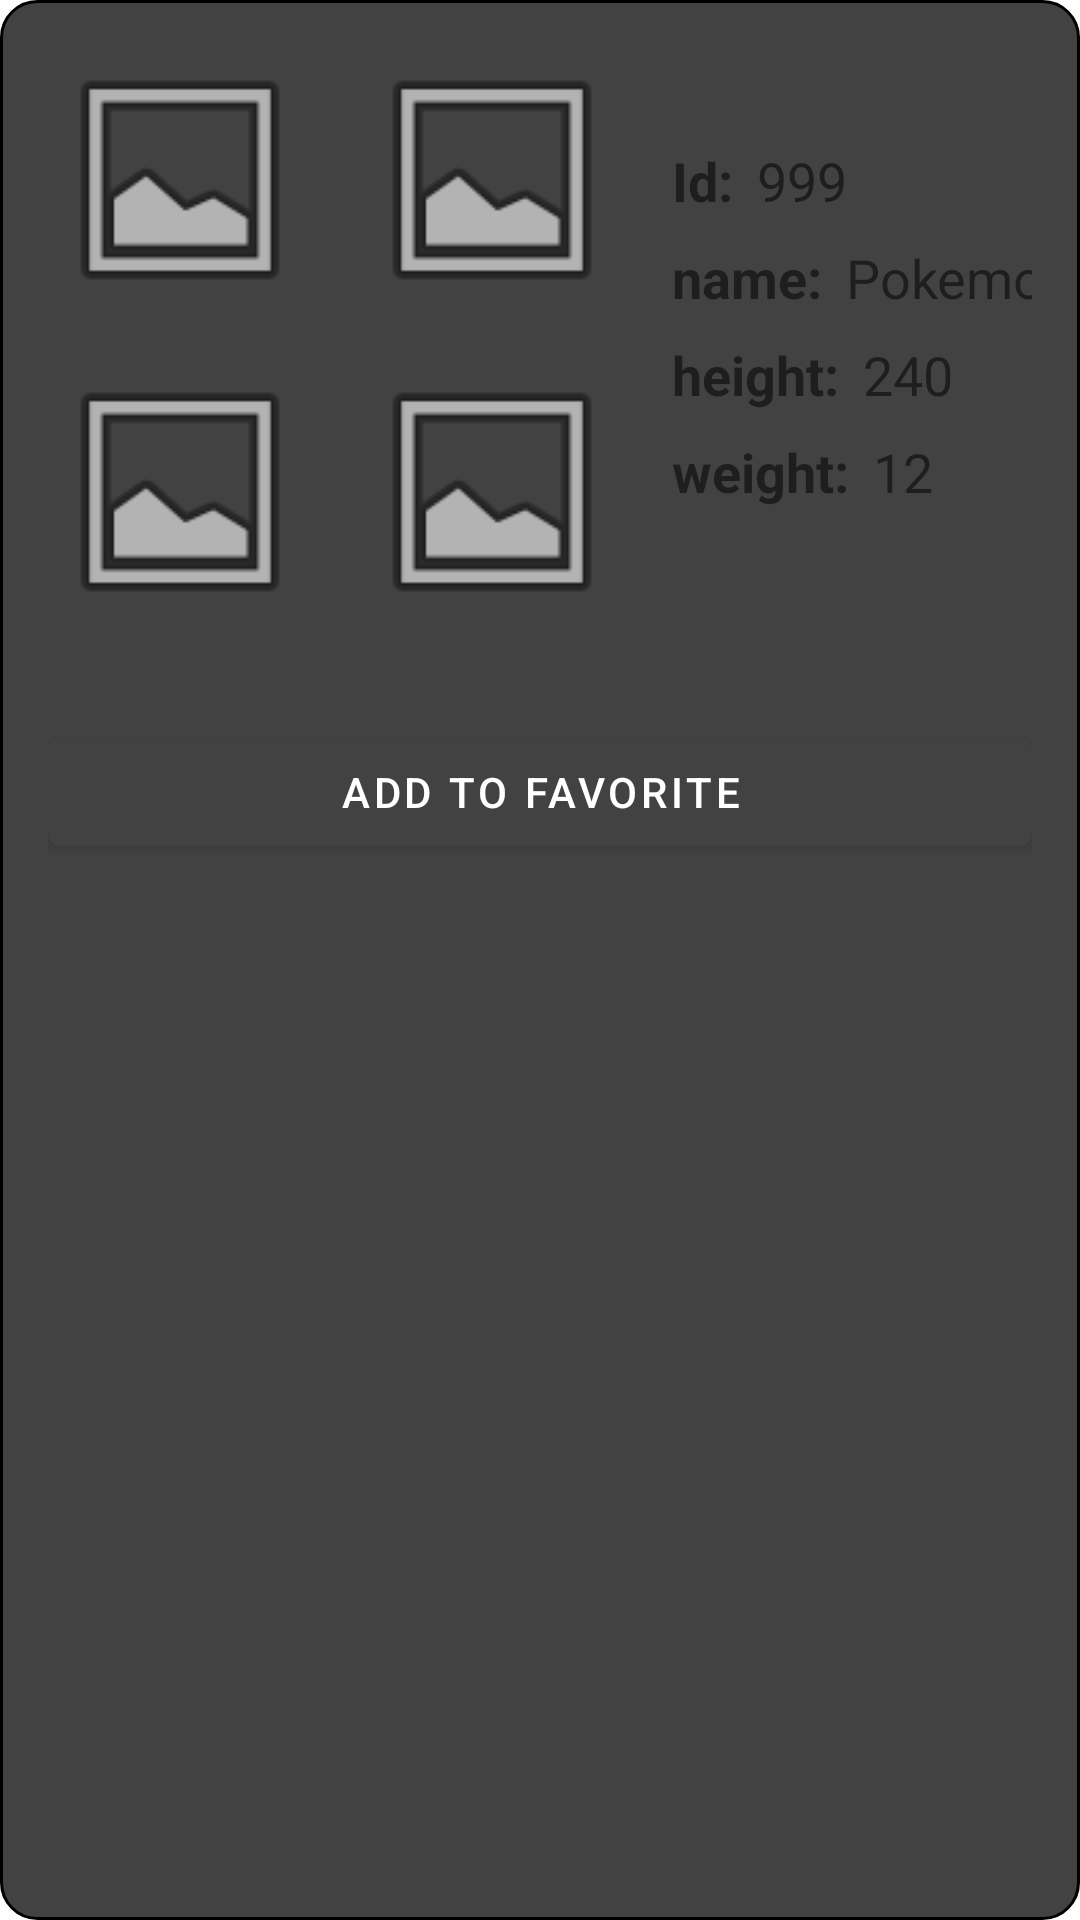

Point at icon controls on the screen. Image size 1080x1920, points as (x=x, y=y).
gallery: (x=180, y=180), (x=492, y=180), (x=180, y=492), (x=492, y=492)
